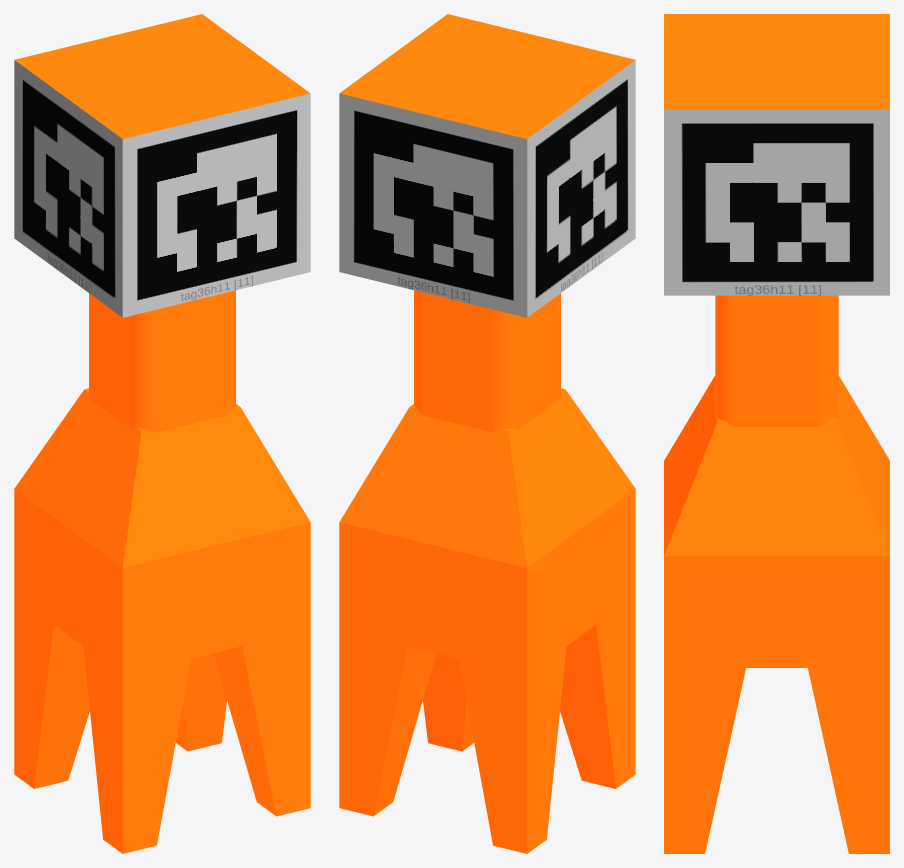
Rendered from Creeper.dae.
3 views of the same model, side by side, from view 1: azimuth 30°, elevation 25°; view 2: azimuth 150°, elevation 25°; view 3: azimuth 270°, elevation 25° (orthographic). The views are drawn at different scales.
Visible parts, largest first — view 1: NovoCreeperV3 v1; view 2: NovoCreeperV3 v1; view 3: NovoCreeperV3 v1.
Boxes of the visible parts, x1,y1,x2,y2 form: NovoCreeperV3 v1: (14, 14, 310, 853); NovoCreeperV3 v1: (339, 14, 635, 853); NovoCreeperV3 v1: (664, 14, 889, 853).
Bounding box in the file's own units: 5.5 × 5.5 × 20.
Materials: 2 (1 with a texture image).
